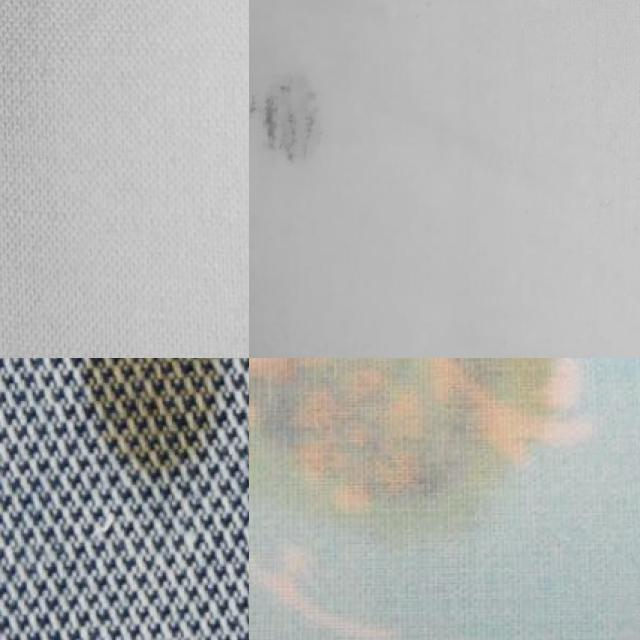Hole: (249, 358, 583, 553), (249, 41, 441, 207), (61, 358, 249, 509)
